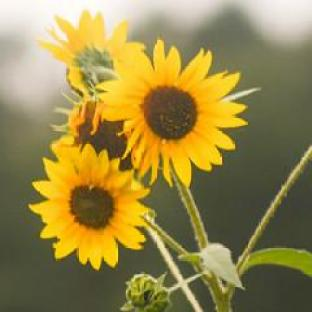sunflower: (29, 134, 155, 272)
